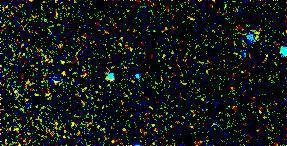star: (49, 56, 79, 86)
